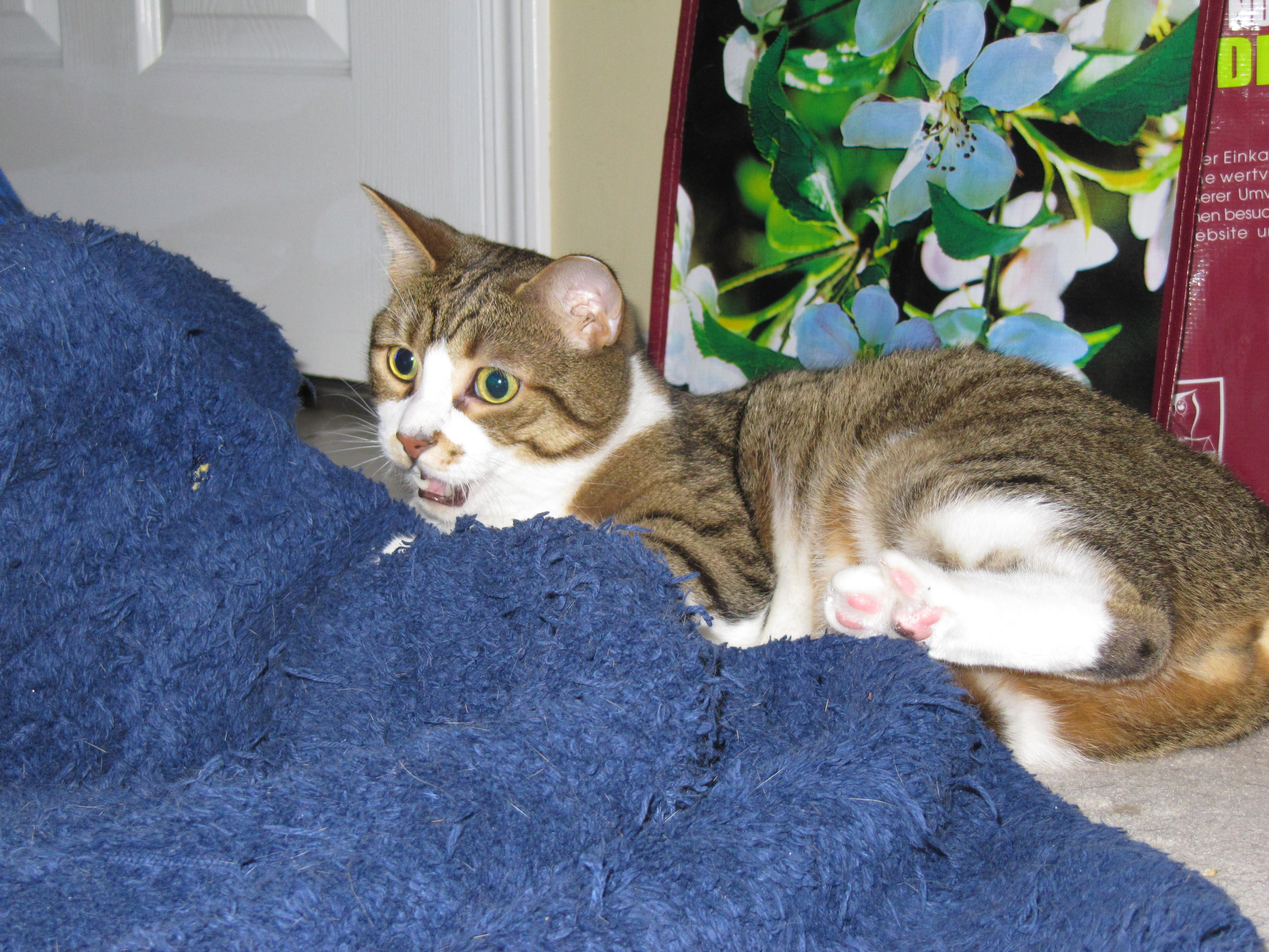cat: (316, 182, 1264, 774)
